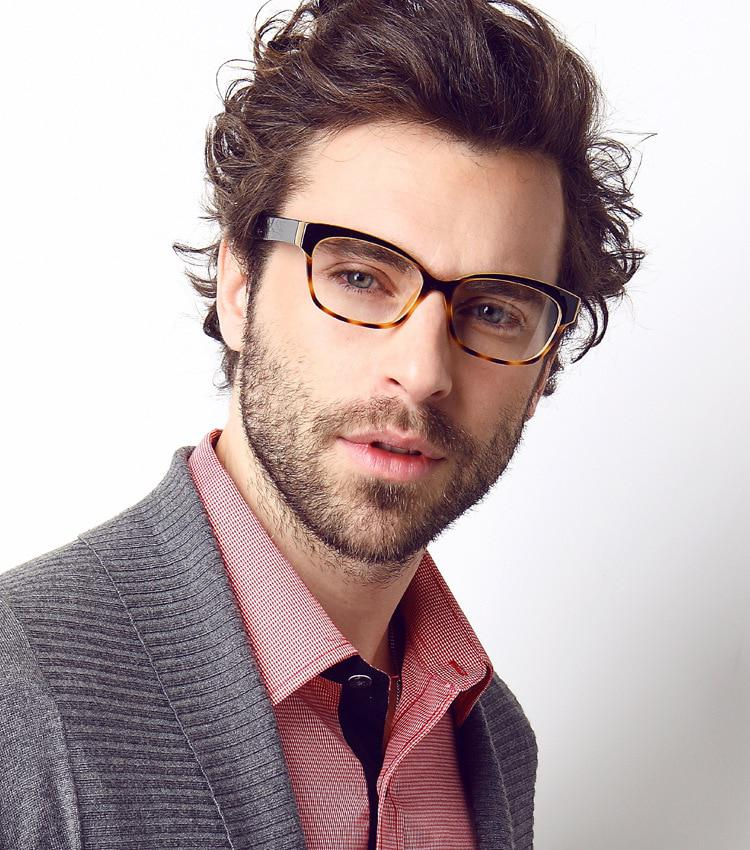glasses: (252, 203, 592, 381)
